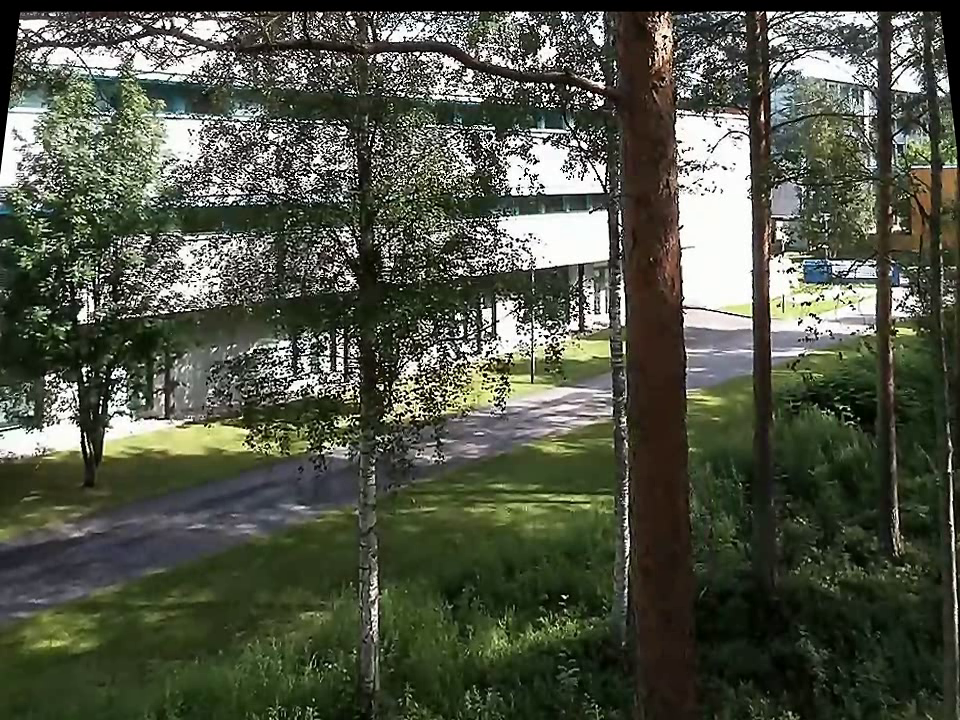branch: (175, 24, 611, 103), (769, 105, 856, 131), (686, 298, 758, 326)
trunk: (604, 15, 711, 712), (864, 16, 915, 577), (741, 17, 787, 602), (918, 30, 957, 708), (353, 383, 389, 696), (71, 406, 112, 500)
